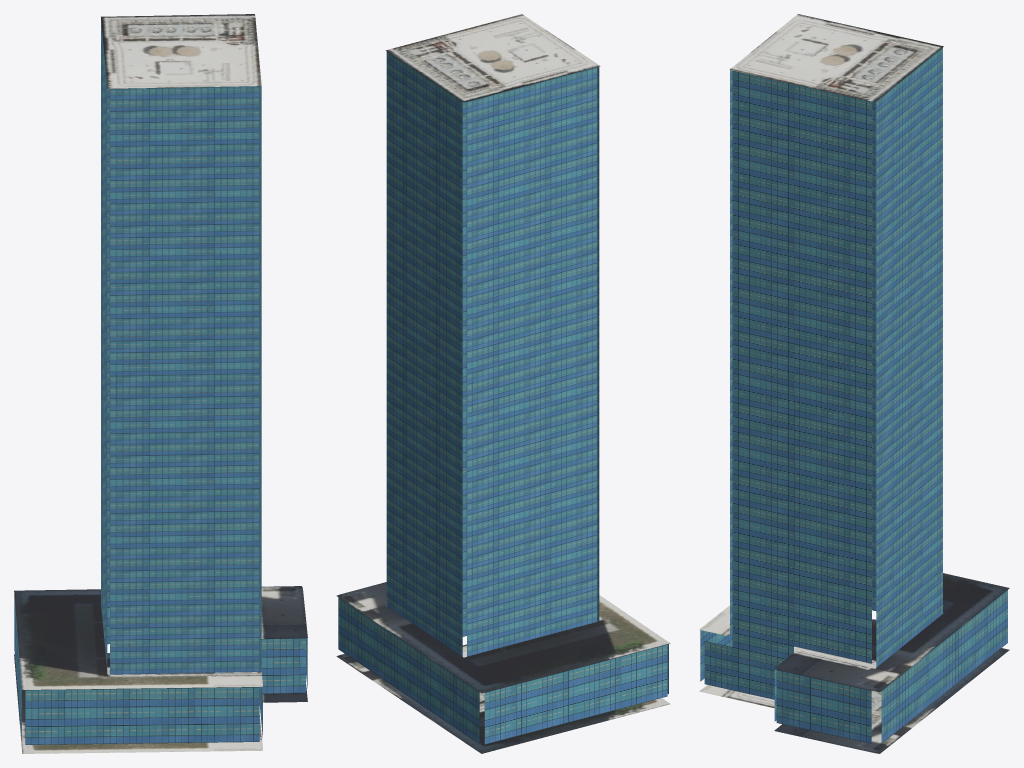
File: building02.fbx
3 views of the same model, side by side, from view 1: azimuth 30°, elevation 25°; view 2: azimuth 150°, elevation 25°; view 3: azimuth 270°, elevation 25° (orthographic). The views are drawn at different scales.
Parts seen in each view (by area): view 1: Object.1644, geometryt040100010000000110110100110010010000010st86_25_d8ca; view 2: Object.1644, geometryt040100010000000110110100110010010000010st86_25_d8ca; view 3: Object.1644, geometryt040100010000000110110100110010010000010st86_25_d8ca.
Part boxes in pixels (x1,y1,x2,y2): Object.1644: (14,18,307,744); geometryt040100010000000110110100110010010000010st86_25_d8ca: (14,14,307,753); Object.1644: (338,51,668,744); geometryt040100010000000110110100110010010000010st86_25_d8ca: (336,14,670,753); Object.1644: (700,47,1007,743); geometryt040100010000000110110100110010010000010st86_25_d8ca: (699,14,1009,753).
Bounding box in the file's own units: 9324 × 18300 × 8207.
2 materials, 2 textured.
